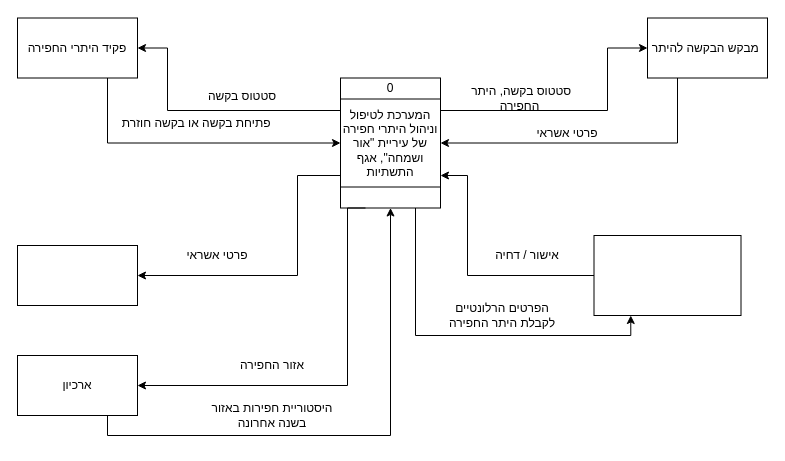
This 785x461 diagram has some shape labels left out. The centre of each missing label's shape, as x and y in pixels:
"גורמים חיצוניים הנדרשים לאשר (חברת החשמל, משטרת ישראל, מקורות ועוד)." goes at (x=667, y=275).
"חברת האשראי" goes at (x=77, y=275).
